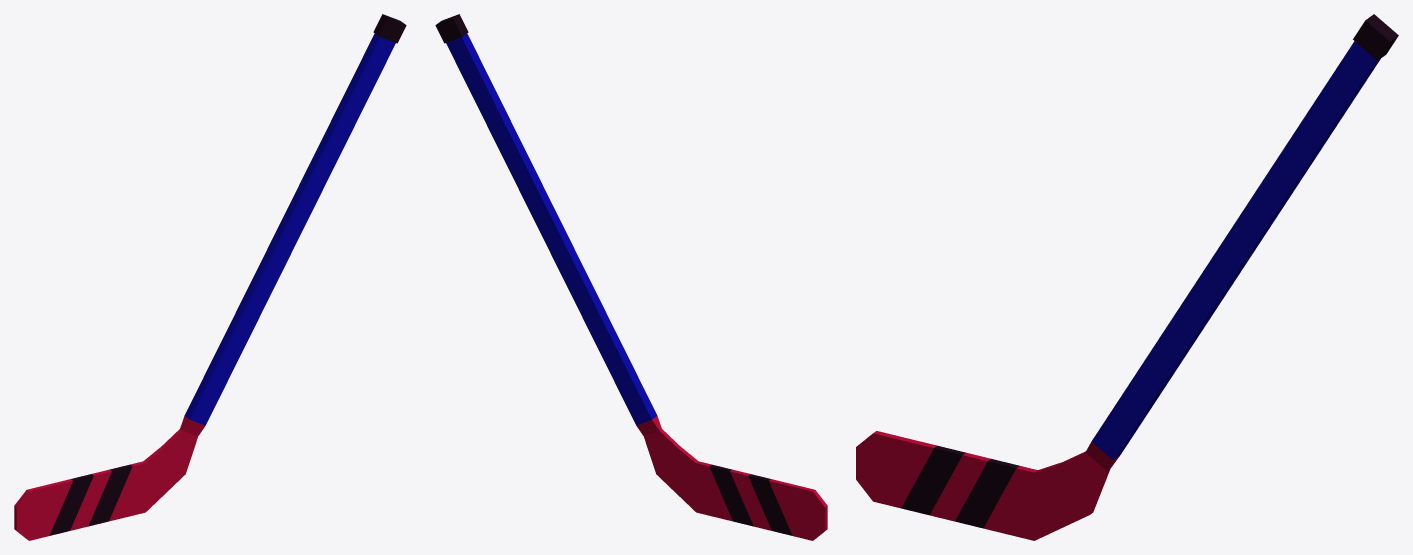
Rendered from HockeyStick_01.fbx.
3 views of the same model, side by side, from view 1: azimuth 30°, elevation 25°; view 2: azimuth 150°, elevation 25°; view 3: azimuth 330°, elevation 25° (orthographic). The views are drawn at different scales.
Visible parts, largest first — view 1: HockeyStick_01; view 2: HockeyStick_01; view 3: HockeyStick_01.
Part boxes in pixels (bbox=[...]): HockeyStick_01: bbox=[14, 14, 406, 540]; HockeyStick_01: bbox=[435, 14, 827, 540]; HockeyStick_01: bbox=[856, 14, 1398, 540].
Bounding box in the file's own units: 10.12 × 10.88 × 0.285.
